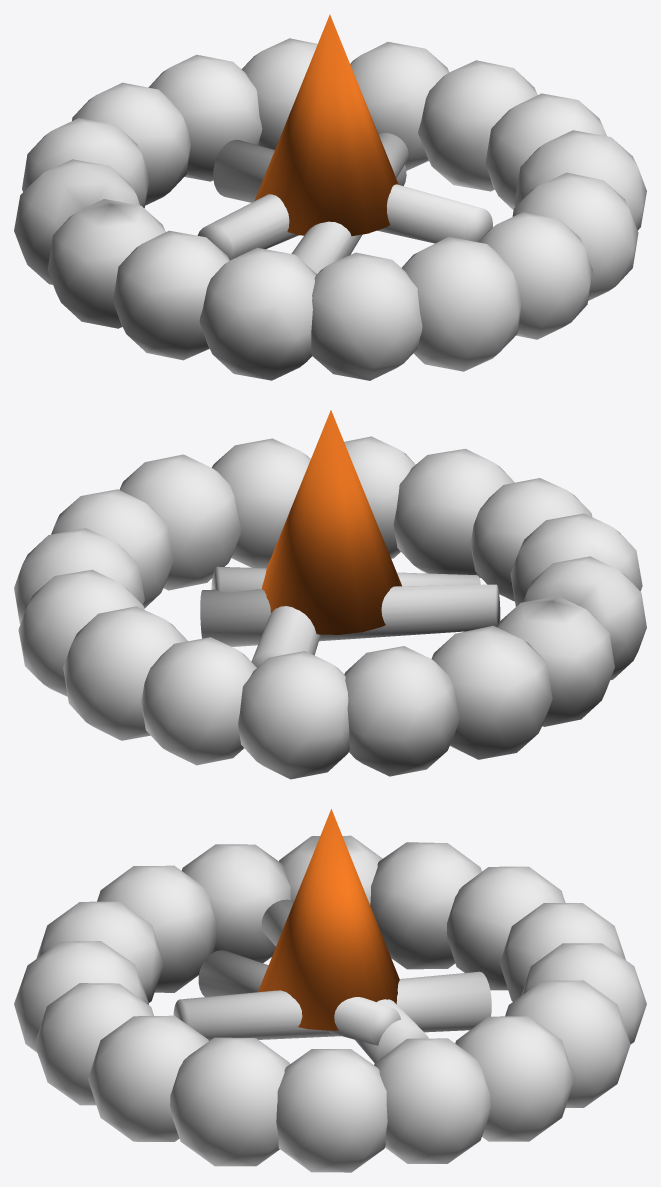
Rendered from campfire-ring.obj.
3 renders of one model, top to bottom at view 1: azimuth 30°, elevation 25°; view 2: azimuth 150°, elevation 25°; view 3: azimuth 270°, elevation 25°, orthographic.
Visible parts, largest first — view 1: campfire-ring; view 2: campfire-ring; view 3: campfire-ring.
Part boxes in pixels (<box>): campfire-ring: <box>14,14,646,380</box>; campfire-ring: <box>14,410,646,779</box>; campfire-ring: <box>14,809,646,1172</box>.
Size of the model in its own units: 1.07 by 0.4889 by 1.09.
